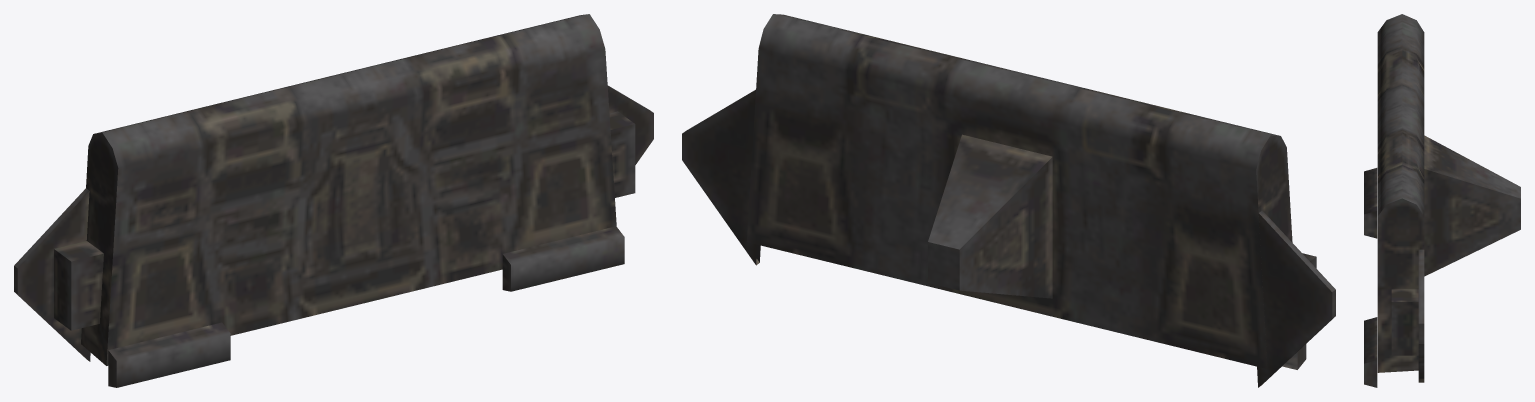
The picture shows the model from 3 angles, left to right: view 1: azimuth 30°, elevation 25°; view 2: azimuth 150°, elevation 25°; view 3: azimuth 270°, elevation 25°; orthographic projection. The views are drawn at different scales.
Visible parts, largest first — view 1: set_0_group_0; view 2: set_0_group_0; view 3: set_0_group_0.
Part boxes in pixels (x1,y1,x2,y2): set_0_group_0: [14, 14, 653, 387]; set_0_group_0: [682, 14, 1335, 387]; set_0_group_0: [1364, 14, 1520, 387].
Bounding box in the file's own units: 0.5644 × 0.2027 × 0.1551.
1 material, 1 textured.
